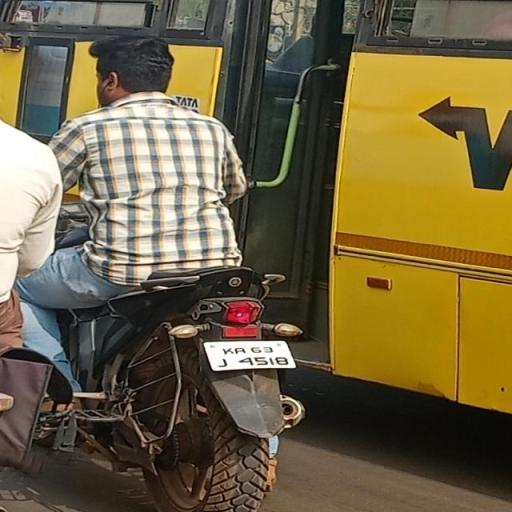bike: (20, 29, 306, 509)
numberplate: (204, 337, 292, 371)
withouthelmet: (94, 36, 174, 93)
